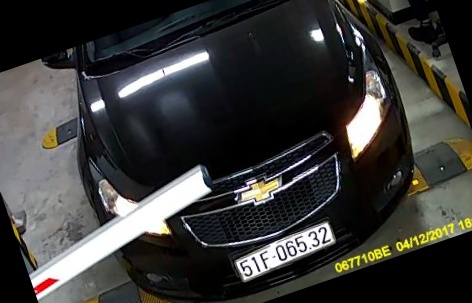plate: (231, 219, 339, 281)
